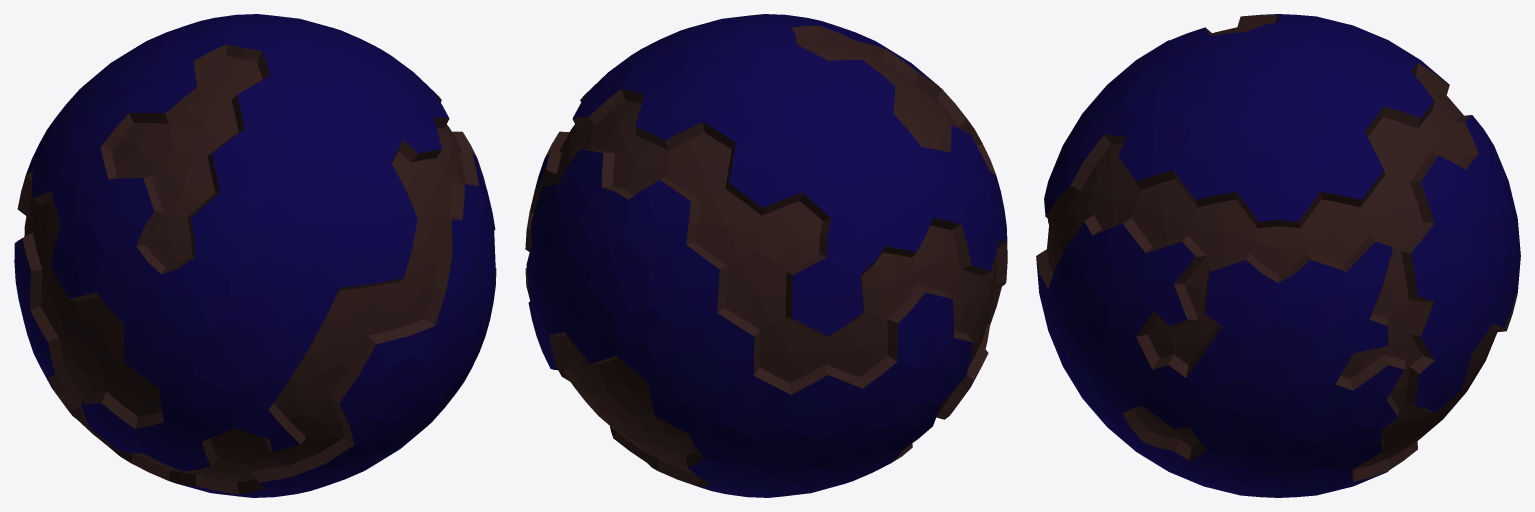
Rendered from Planet5Evo2.glb.
The picture shows the model from 3 angles, left to right: view 1: azimuth 30°, elevation 25°; view 2: azimuth 150°, elevation 25°; view 3: azimuth 270°, elevation 25°; orthographic projection.
Visible parts, largest first — view 1: Icosphere.043; view 2: Icosphere.043; view 3: Icosphere.043.
Part boxes in pixels (x1,y1,x2,y2): Icosphere.043: [14, 14, 496, 497]; Icosphere.043: [525, 14, 1007, 497]; Icosphere.043: [1036, 14, 1520, 497].
Bounding box in the file's own units: 1.8 × 1.83 × 1.81.
